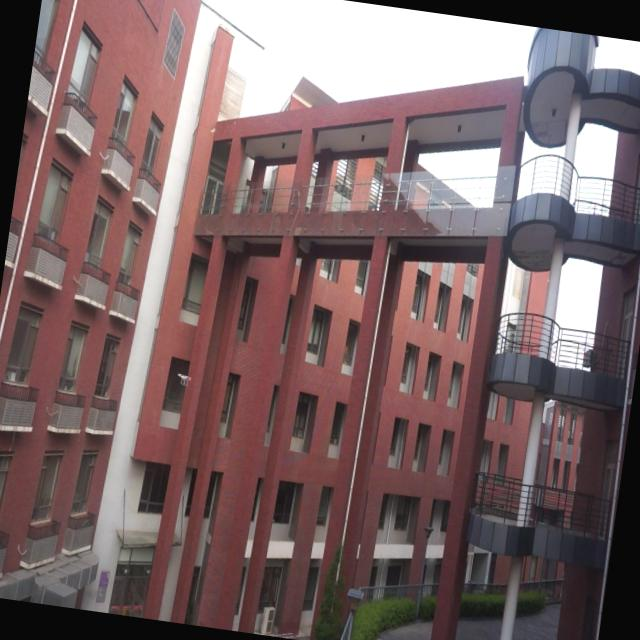drone: (173, 366, 194, 389)
